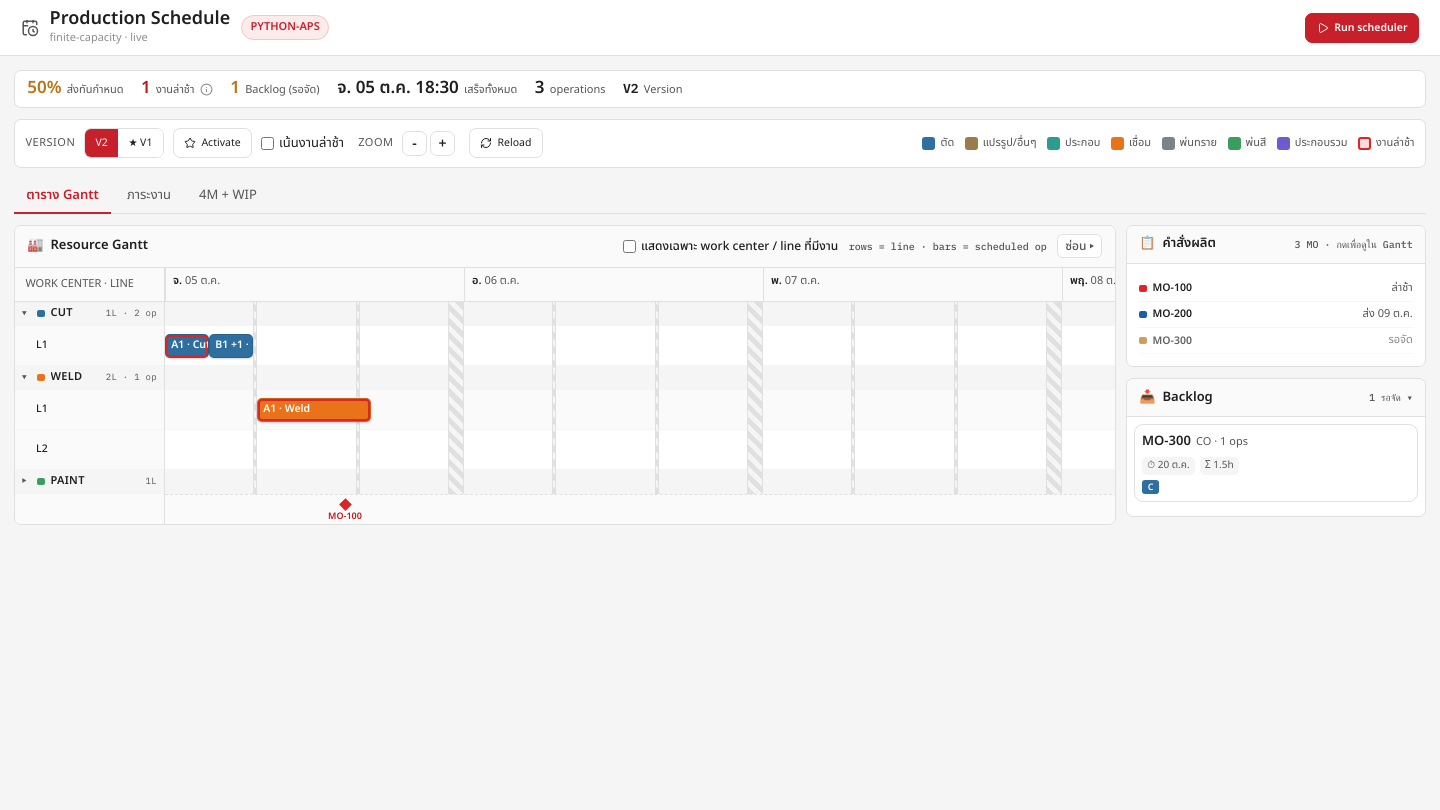
Test: ProductionSchedule › draws the WC → line tree with idle WCs collapsed, and one bar per op
The image size is (1440, 810).
Expected: the text "L1" is shown 2 times, [15, 326, 164, 366]; [15, 390, 164, 430]
Expected: the text "L2" is shown, [15, 430, 164, 470]
# expanding PAINT adds its line row
Click the button named "▸PAINT" at point(90, 482), box [15, 470, 164, 494]
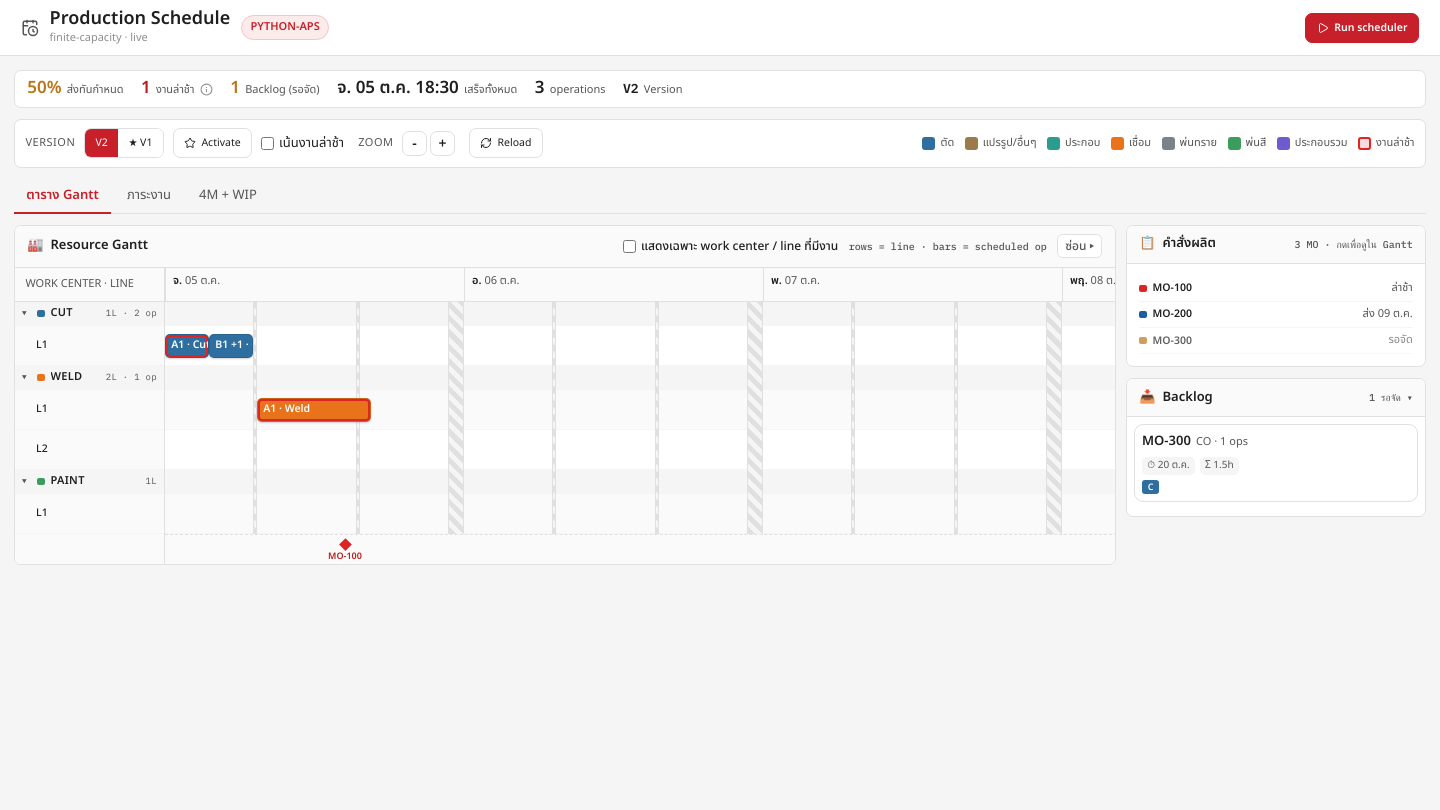
Expected: the text "L1" is shown 3 times, [15, 326, 164, 366]; [15, 390, 164, 430]; [15, 494, 164, 534]
